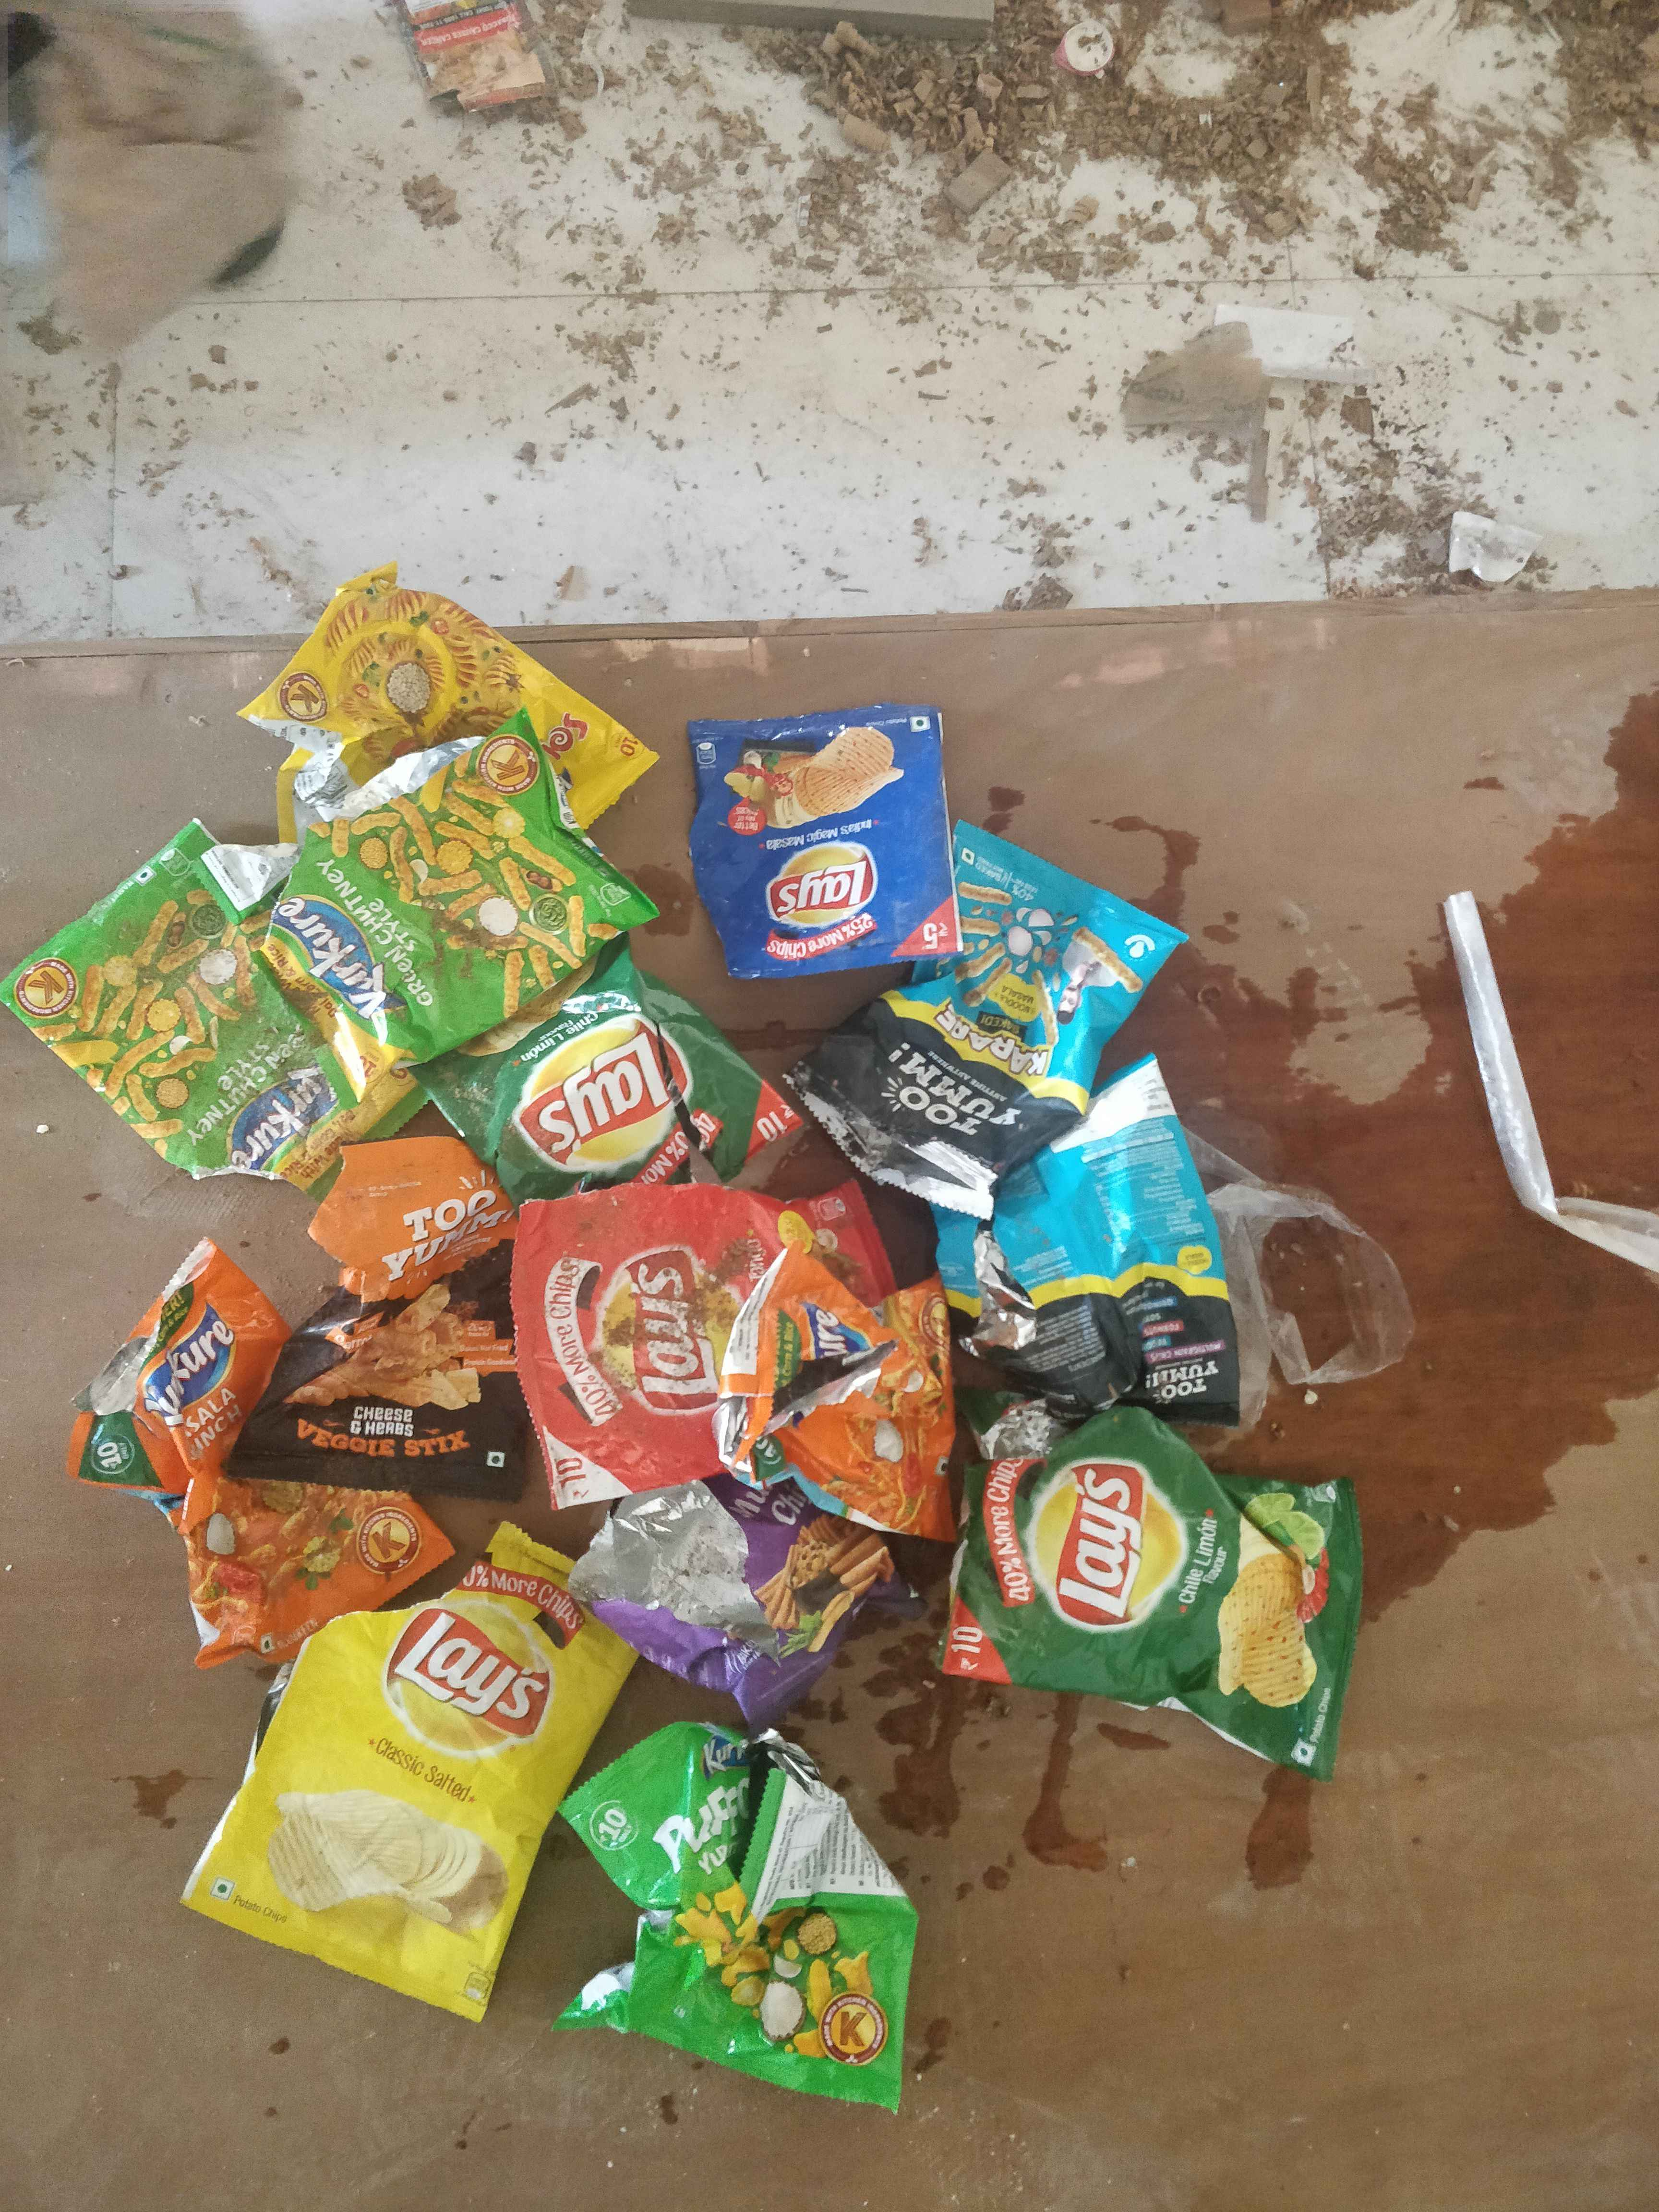Lays: (586, 1240, 755, 1444), (366, 1601, 586, 1749), (497, 1008, 713, 1144), (1035, 1447, 1183, 1639), (741, 836, 894, 928)
kurkure: (267, 885, 432, 1038), (143, 1306, 251, 1447), (213, 1062, 336, 1183), (809, 1289, 884, 1416), (699, 1724, 795, 1792)
tooyumm: (369, 1176, 504, 1313), (880, 1024, 1025, 1150), (1141, 1338, 1234, 1426)
